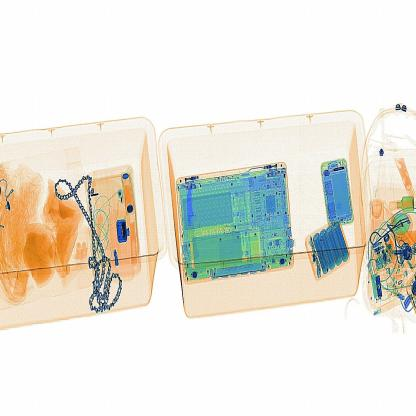wrench: (181, 172, 200, 262)
